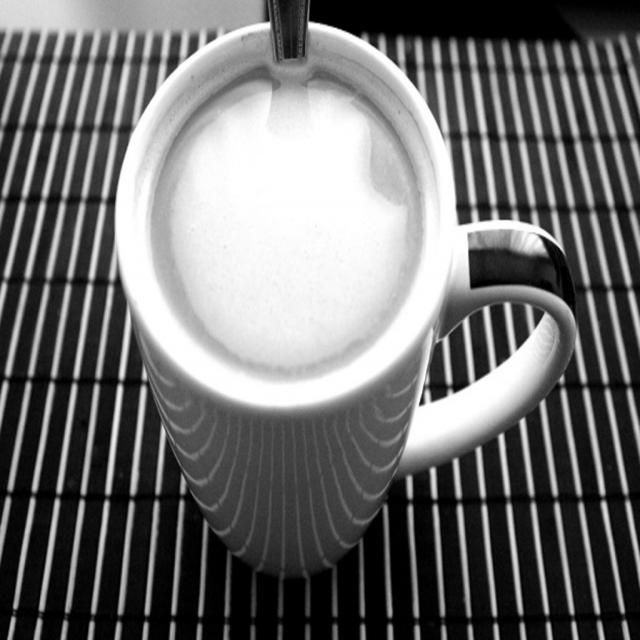Coffee: (139, 43, 434, 374)
